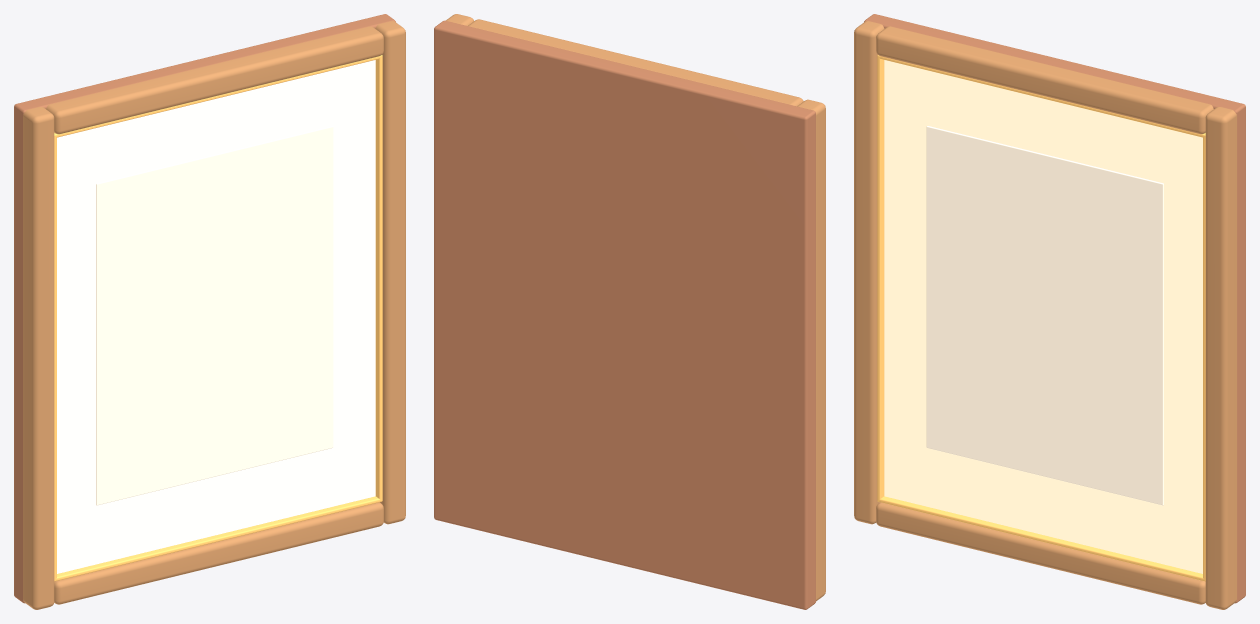
Rendered from gallery_oak_frame.glb.
3 views of the same model, side by side, from view 1: azimuth 30°, elevation 25°; view 2: azimuth 150°, elevation 25°; view 3: azimuth 330°, elevation 25° (orthographic).
Parts seen in each view (by area): view 1: gallery_oak_frame; view 2: gallery_oak_frame; view 3: gallery_oak_frame.
Part boxes in pixels (left/top/right/bottom): gallery_oak_frame: left=14, top=14, right=405, bottom=609; gallery_oak_frame: left=434, top=14, right=825, bottom=609; gallery_oak_frame: left=854, top=14, right=1245, bottom=609.
Bounding box in the file's own units: 0.61 × 0.77 × 0.061.
